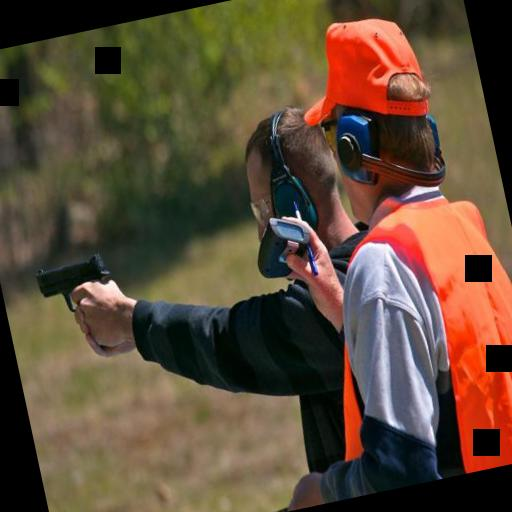Handgun: (28, 246, 118, 324)
